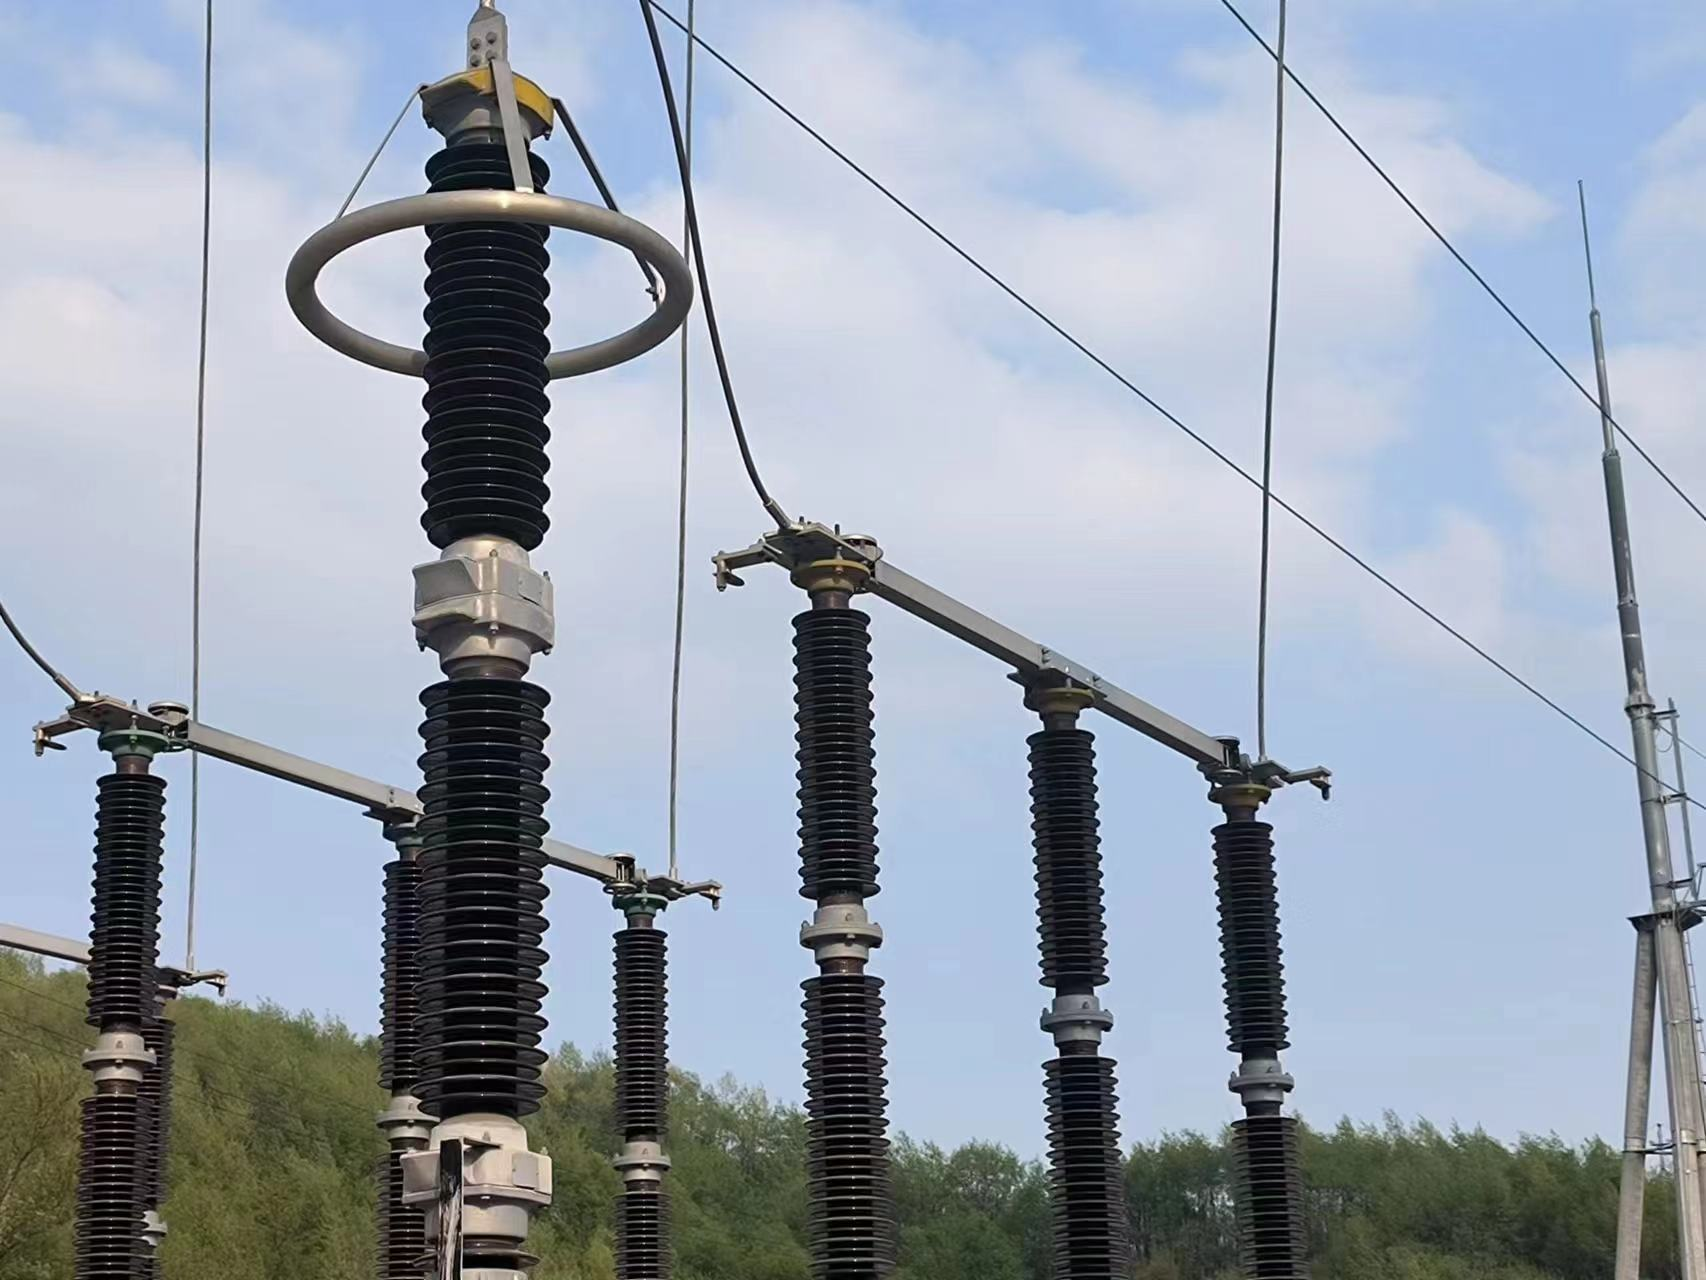Arrester: (259, 26, 725, 1133)
